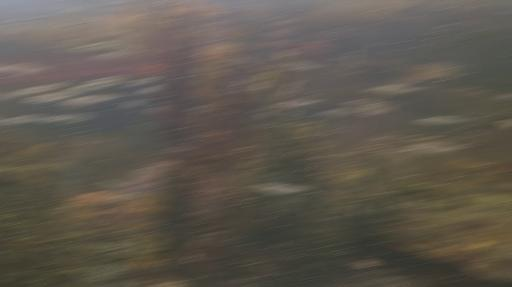Fish: (99, 161, 164, 203), (73, 78, 122, 92), (64, 94, 119, 105), (408, 142, 463, 153), (15, 83, 64, 94), (0, 66, 48, 76), (370, 84, 423, 93), (257, 185, 308, 194), (2, 114, 46, 124), (261, 27, 296, 39), (41, 115, 92, 123), (25, 94, 76, 102), (256, 40, 299, 49), (361, 103, 390, 115), (316, 108, 359, 116), (76, 43, 119, 51), (281, 79, 302, 95), (344, 99, 389, 106), (418, 118, 469, 124), (87, 75, 128, 82), (113, 44, 144, 53), (276, 101, 321, 107), (127, 78, 158, 86), (91, 53, 130, 59), (271, 18, 294, 28), (285, 63, 320, 69), (135, 86, 160, 94), (249, 82, 274, 90), (58, 86, 80, 93), (123, 101, 146, 107), (190, 105, 205, 113), (0, 95, 20, 101), (148, 106, 165, 113), (501, 118, 511, 128), (234, 79, 249, 85), (497, 93, 511, 98), (258, 113, 273, 117)
